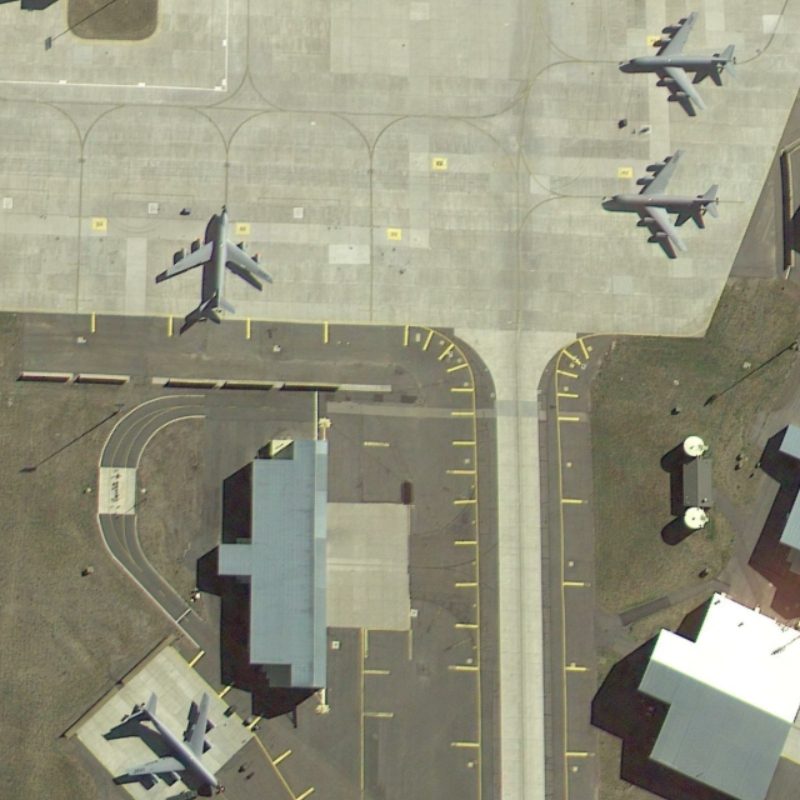A14: (153, 198, 280, 333), (606, 8, 749, 123), (600, 149, 740, 260), (102, 689, 237, 800)
